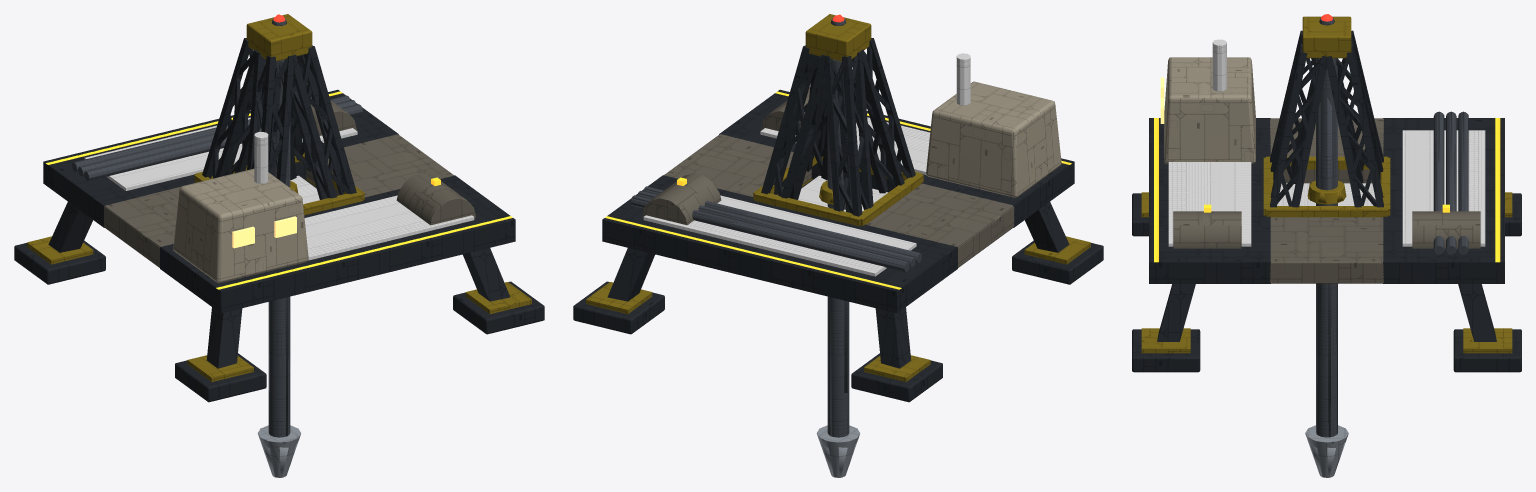
File: place_drill_platform.glb
3 views of the same model, side by side, from view 1: azimuth 30°, elevation 25°; view 2: azimuth 150°, elevation 25°; view 3: azimuth 270°, elevation 25° (orthographic).
Parts seen in each view (by area): view 1: LOD0_Armor, LOD0_Hull, LOD0_Hull_aged, LOD0_MechanicalDark, LOD1_Armor, LOD0_Warning, LOD1_Hull, LOD0_Mechanical, LOD0_MOTION_DRILL_STRING_Mechanical, LOD1_Warning, LOD1_MechanicalDark, LOD1_Beacon_Amber (+4 smaller); view 2: LOD0_Armor, LOD0_Hull_aged, LOD1_Armor, LOD0_Hull, LOD0_Warning, LOD0_MechanicalDark, LOD0_Mechanical, LOD1_Hull, LOD0_MOTION_DRILL_STRING_Mechanical, LOD1_MechanicalDark, LOD1_Warning, LOD2_Mechanical (+3 smaller); view 3: LOD0_Armor, LOD0_Hull_aged, LOD0_MechanicalDark, LOD0_Hull, LOD1_MechanicalDark, LOD0_Warning, LOD1_Armor, LOD0_MOTION_DRILL_STRING_Mechanical, LOD0_Mechanical, LOD1_Hull, LOD1_Warning, LOD2_MOTION_DRILL_STRING_Mechanical (+5 smaller).
Part boxes in pixels (box(x1,y1,x2,y2)): LOD0_Armor: box(14, 38, 544, 402); LOD0_Hull: box(173, 168, 308, 283); LOD0_Hull_aged: box(104, 97, 475, 267); LOD0_MechanicalDark: box(84, 117, 474, 260); LOD1_Armor: box(17, 38, 544, 401); LOD0_Warning: box(27, 14, 531, 381); LOD1_Hull: box(173, 169, 308, 282); LOD0_Mechanical: box(72, 18, 362, 181); LOD0_MOTION_DRILL_STRING_Mechanical: box(268, 59, 290, 437); LOD1_Warning: box(27, 31, 531, 381); LOD1_MechanicalDark: box(85, 118, 474, 259); LOD1_Beacon_Amber: box(46, 91, 512, 289); LOD0_Armor: box(573, 38, 1103, 402); LOD0_Hull_aged: box(642, 87, 1014, 267); LOD1_Armor: box(573, 42, 1103, 401); LOD0_Hull: box(926, 82, 1061, 197); LOD0_Warning: box(586, 14, 1090, 381); LOD0_MechanicalDark: box(643, 53, 970, 276); LOD0_Mechanical: box(631, 18, 921, 272); LOD1_Hull: box(926, 81, 1061, 196); LOD0_MOTION_DRILL_STRING_Mechanical: box(827, 59, 849, 437); LOD1_MechanicalDark: box(644, 58, 968, 276); LOD1_Warning: box(586, 25, 1090, 381); LOD2_Mechanical: box(631, 19, 919, 272); LOD0_Armor: box(1132, 30, 1521, 372); LOD0_Hull_aged: box(1173, 118, 1480, 283); LOD0_MechanicalDark: box(1168, 39, 1485, 246); LOD0_Hull: box(1164, 57, 1255, 163); LOD1_MechanicalDark: box(1168, 91, 1485, 246); LOD0_Warning: box(1141, 16, 1512, 353); LOD1_Armor: box(1132, 30, 1521, 371); LOD0_MOTION_DRILL_STRING_Mechanical: box(1316, 58, 1337, 437); LOD0_Mechanical: box(1319, 18, 1468, 254); LOD1_Hull: box(1164, 57, 1255, 163); LOD1_Warning: box(1141, 16, 1512, 353); LOD2_MOTION_DRILL_STRING_Mechanical: box(1316, 58, 1337, 437).
Size of what is drawn, in the model's own units: 16 by 20.87 by 16.
10 materials, 7 textured.
